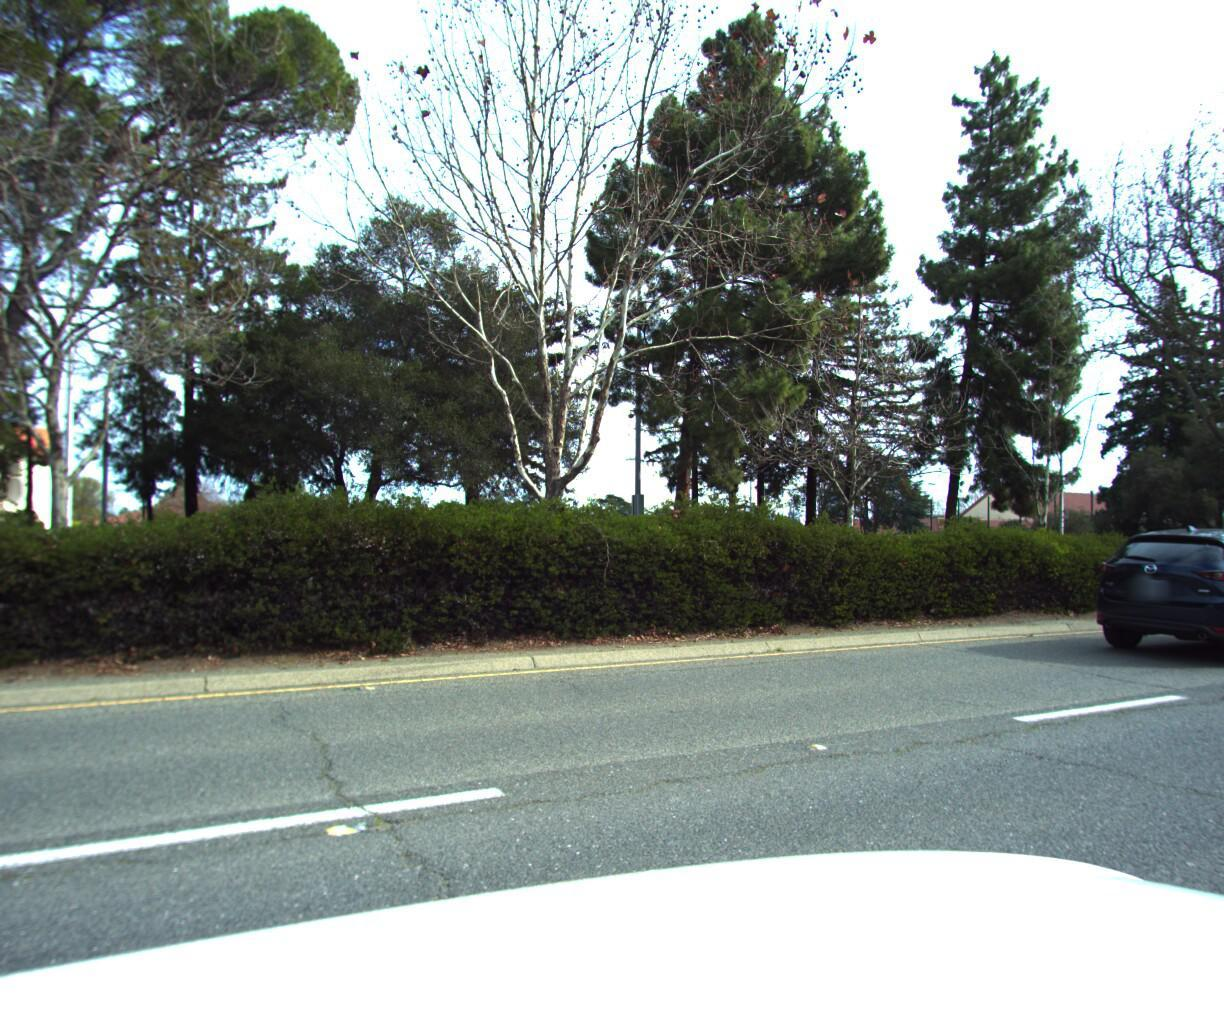car: (1062, 516, 1224, 672)
